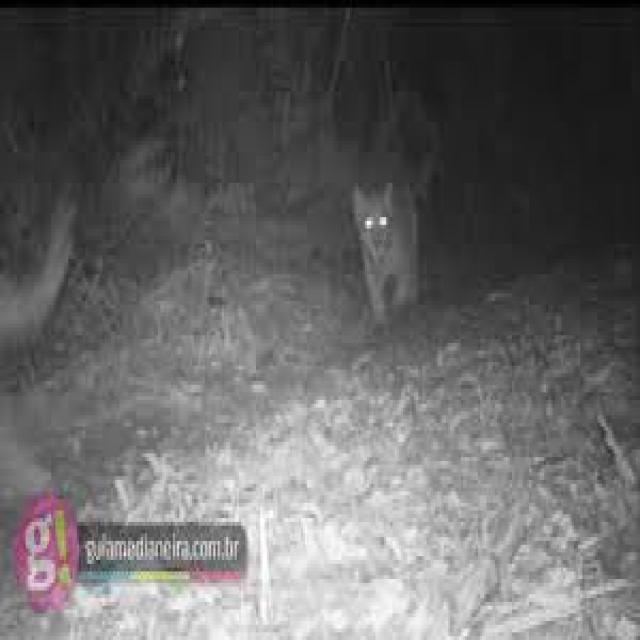Jaguar: (337, 160, 429, 331)
